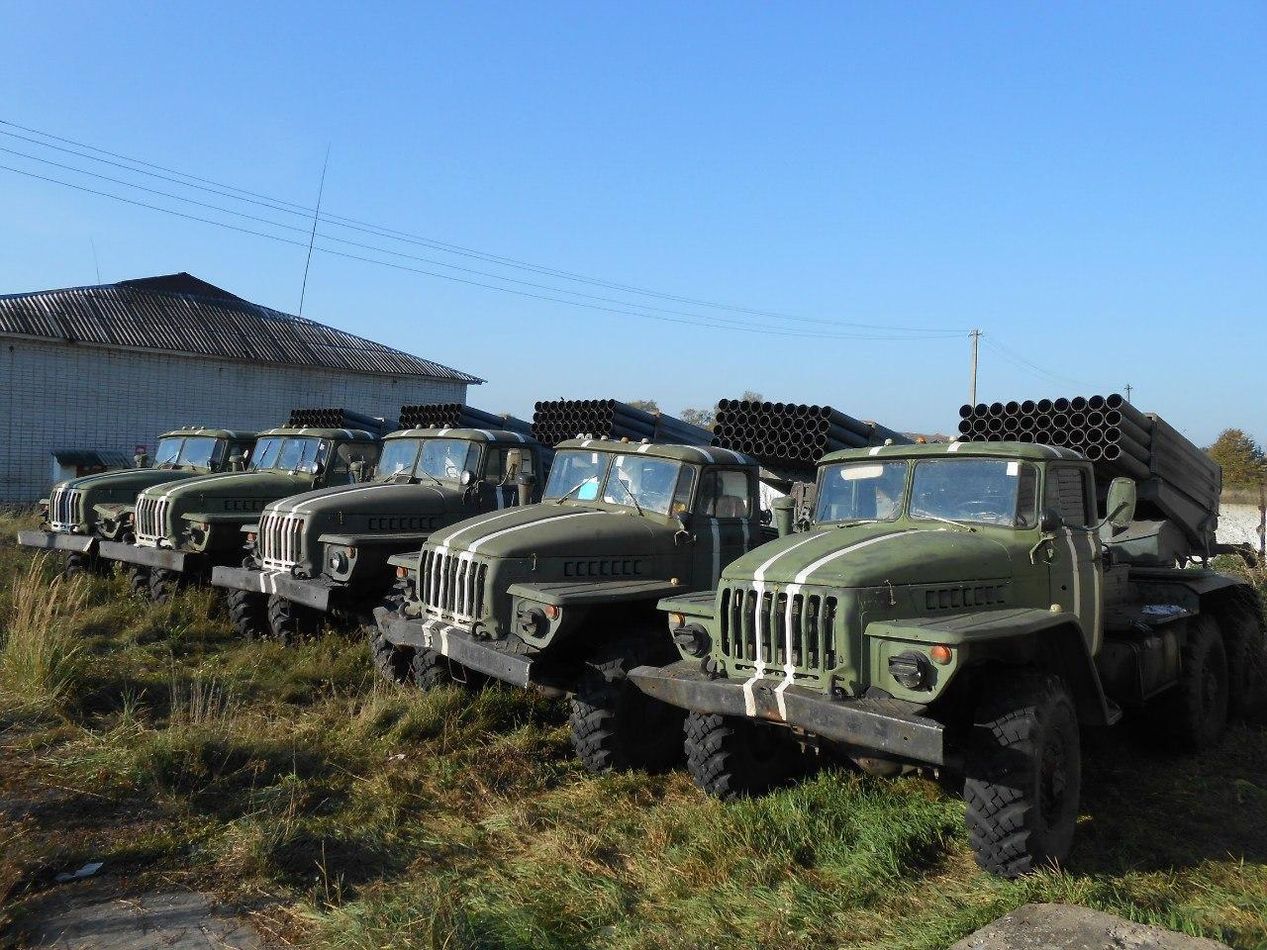rszo: (651, 388, 1267, 862), (394, 378, 871, 784), (218, 383, 506, 648), (131, 402, 389, 602)
